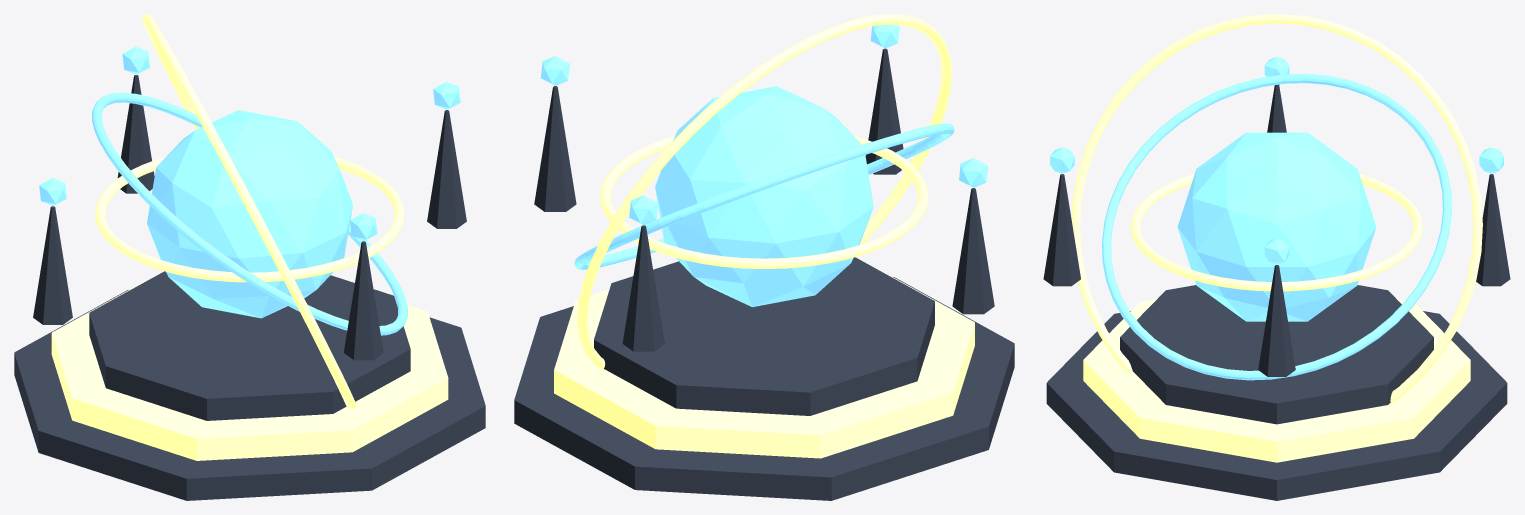
File: gpu-blender-v33.glb
3 renders of one model, left to right at view 1: azimuth 30°, elevation 25°; view 2: azimuth 150°, elevation 25°; view 3: azimuth 270°, elevation 25°, orthographic. The views are drawn at different scales.
Parts seen in each view (by area): view 1: Cylinder.002, SovereignCore_nexus-3d-scene-studio, Cylinder, Cylinder.001, Torus.001, Torus.002, Torus, Cone.003, Cone, Cone.002, Cone.001, Icosphere.002 (+3 smaller); view 2: Cylinder.002, SovereignCore_nexus-3d-scene-studio, Cylinder, Cylinder.001, Torus.002, Torus, Torus.001, Cone.002, Cone.001, Cone, Cone.003, Icosphere (+3 smaller); view 3: SovereignCore_nexus-3d-scene-studio, Cylinder.002, Cylinder, Cylinder.001, Torus.001, Torus.002, Torus, Cone.003, Cone, Cone.001, Cone.002, Icosphere (+2 smaller).
Part boxes in pixels (x1,y1,x2,y2): Cylinder.002: [89, 271, 410, 420]; SovereignCore_nexus-3d-scene-studio: [147, 110, 352, 318]; Cylinder: [14, 290, 485, 500]; Cylinder.001: [51, 280, 448, 460]; Torus.001: [92, 92, 407, 335]; Torus.002: [142, 14, 356, 408]; Torus: [95, 157, 404, 282]; Cone.003: [343, 241, 383, 360]; Cone: [427, 110, 466, 228]; Cone.002: [33, 206, 72, 324]; Cone.001: [117, 75, 154, 193]; Icosphere.002: [39, 178, 66, 205]; Cylinder.002: [594, 257, 934, 415]; SovereignCore_nexus-3d-scene-studio: [655, 86, 873, 307]; Cylinder: [514, 277, 1014, 500]; Cylinder.001: [554, 266, 974, 458]; Torus.002: [577, 14, 951, 369]; Torus: [600, 136, 928, 268]; Torus.001: [574, 123, 954, 269]; Cone.002: [952, 188, 994, 314]; Cone.001: [622, 225, 664, 351]; Cone: [534, 86, 576, 211]; Cone.003: [865, 48, 903, 174]; Icosphere: [540, 56, 569, 85]; SovereignCore_nexus-3d-scene-studio: [1177, 132, 1376, 321]; Cylinder.002: [1120, 285, 1433, 424]; Cylinder: [1046, 311, 1507, 500]; Cylinder.001: [1083, 299, 1470, 462]; Torus.001: [1102, 73, 1451, 380]; Torus.002: [1071, 14, 1482, 403]; Torus: [1131, 174, 1422, 291]; Cone.003: [1043, 174, 1080, 286]; Cone: [1258, 265, 1295, 376]; Cone.001: [1476, 174, 1510, 286]; Cone.002: [1267, 84, 1286, 132]; Icosphere: [1264, 238, 1289, 264].
Bounding box in the file's own units: 4.41 × 3.72 × 4.46.
